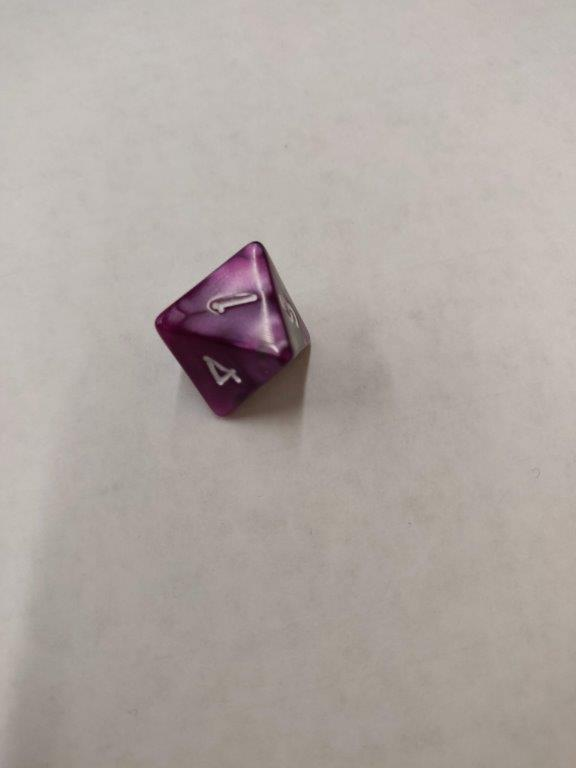d8-1: (155, 239, 310, 422)
